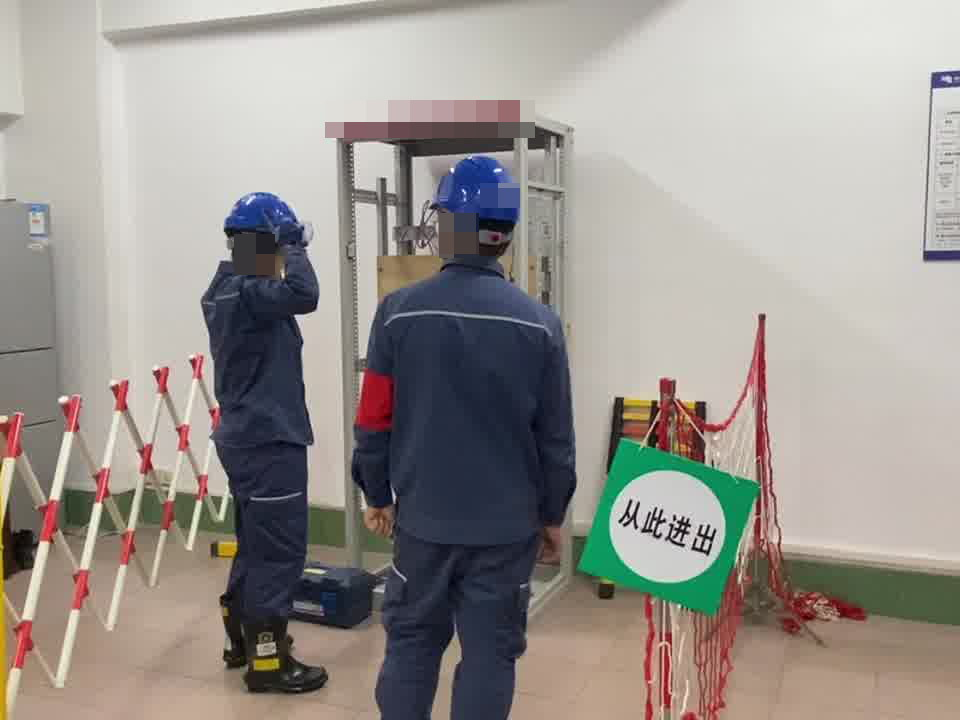badge: (355, 370, 398, 433)
downsuit: (368, 557, 535, 720), (216, 451, 314, 639)
glove: (261, 208, 314, 252)
halt: (432, 152, 524, 257), (221, 191, 304, 267)
hand: (362, 497, 395, 536), (537, 524, 565, 564)
inear: (432, 207, 462, 263), (242, 231, 281, 272)
intosign: (593, 435, 750, 603)
person: (350, 151, 582, 720), (198, 190, 326, 690)
shoe: (218, 595, 330, 694)
upsuit: (349, 260, 579, 543), (201, 259, 319, 443)
